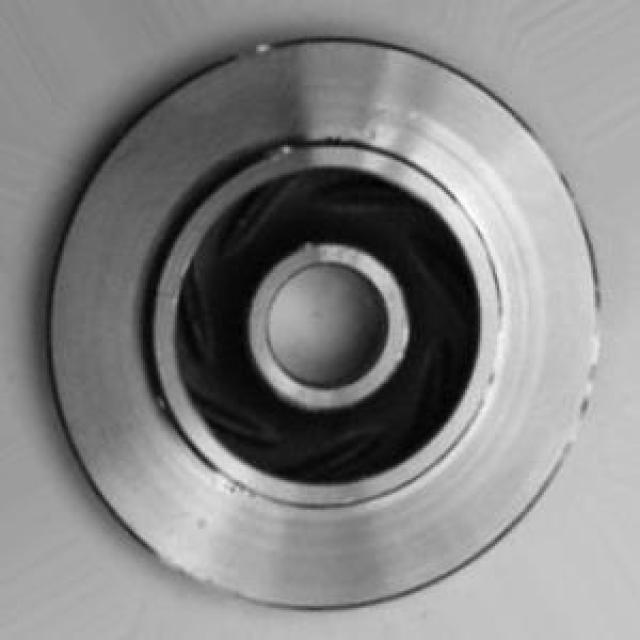Defect: (251, 125, 304, 163)
